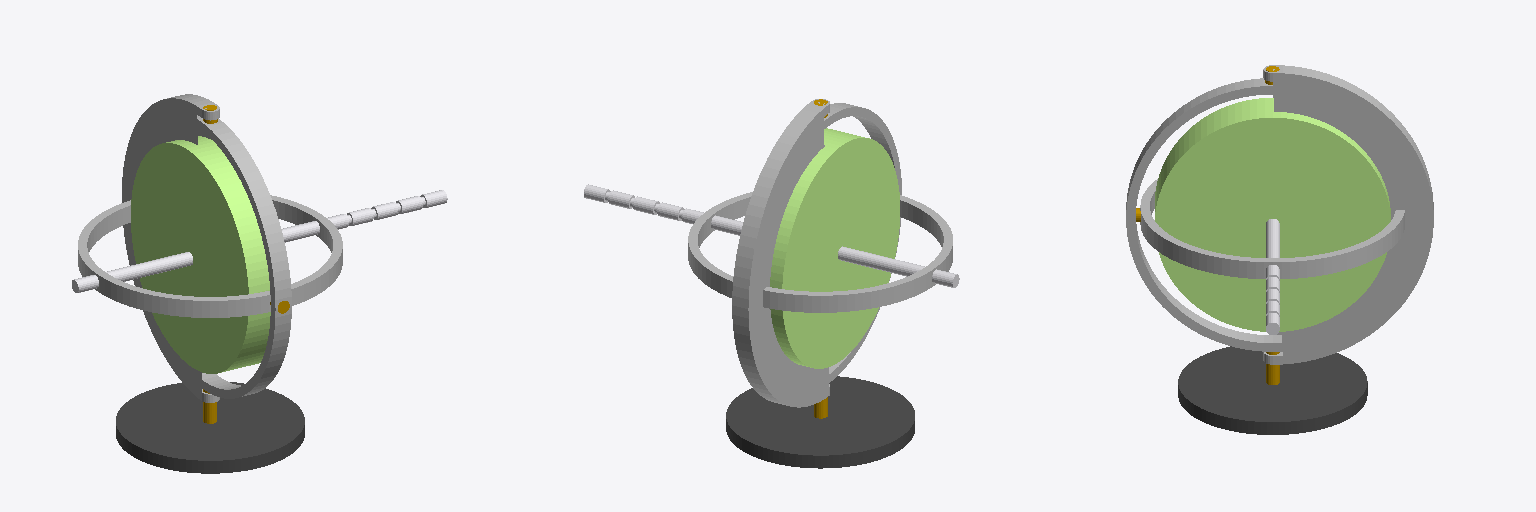
File: gyroscope.obj
3 renders of one model, left to right at view 1: azimuth 30°, elevation 25°; view 2: azimuth 150°, elevation 25°; view 3: azimuth 270°, elevation 25°, orthographic.
Parts seen in each view (by area): view 1: Mesh3 Component_1_1 Model, Mesh10 Component_9_1 Model, Mesh5 Component_4_1 Model, Mesh4 Component_3_1 Model, Mesh1 Difference Model, Mesh2 Component_2_1 Model; view 2: Mesh3 Component_1_1 Model, Mesh1 Difference Model, Mesh10 Component_9_1 Model, Mesh5 Component_4_1 Model, Mesh2 Component_2_1 Model, Mesh4 Component_3_1 Model; view 3: Mesh3 Component_1_1 Model, Mesh1 Difference Model, Mesh10 Component_9_1 Model, Mesh4 Component_3_1 Model, Mesh5 Component_4_1 Model, Mesh2 Component_2_1 Model.
Part boxes in pixels (x1,y1,x2,y2): Mesh3 Component_1_1 Model: (131,136,270,373); Mesh10 Component_9_1 Model: (116,382,304,473); Mesh5 Component_4_1 Model: (78,195,342,317); Mesh4 Component_3_1 Model: (129,112,291,398); Mesh1 Difference Model: (122,94,219,402); Mesh2 Component_2_1 Model: (72,190,447,292); Mesh3 Component_1_1 Model: (770,128,899,368); Mesh1 Difference Model: (732,99,829,407); Mesh10 Component_9_1 Model: (726,376,914,468); Mesh5 Component_4_1 Model: (688,192,952,312); Mesh2 Component_2_1 Model: (584,184,959,287); Mesh4 Component_3_1 Model: (756,103,901,392); Mesh3 Component_1_1 Model: (1155,98,1390,331); Mesh1 Difference Model: (1263,65,1433,364); Mesh10 Component_9_1 Model: (1178,346,1367,434); Mesh4 Component_3_1 Model: (1126,78,1419,351); Mesh5 Component_4_1 Model: (1140,179,1404,278); Mesh2 Component_2_1 Model: (1266,219,1279,334).
Bounding box in the file's own units: 90 × 76.05 × 65.